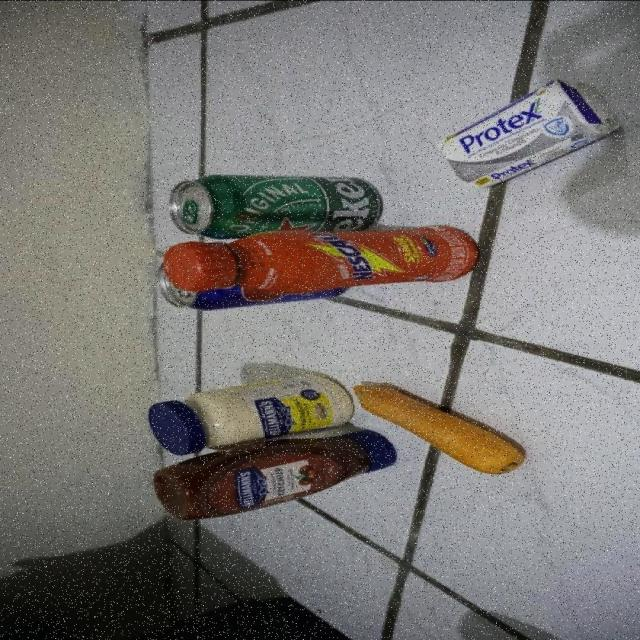BeerCan: (170, 176, 382, 232)
Carrot: (358, 385, 530, 469)
ChocolateMilk: (170, 226, 474, 290)
Ketchup: (160, 432, 392, 519)
Mayonnaise: (151, 376, 352, 451)
Soap: (439, 78, 626, 186)
SodaCan: (161, 288, 347, 311)
